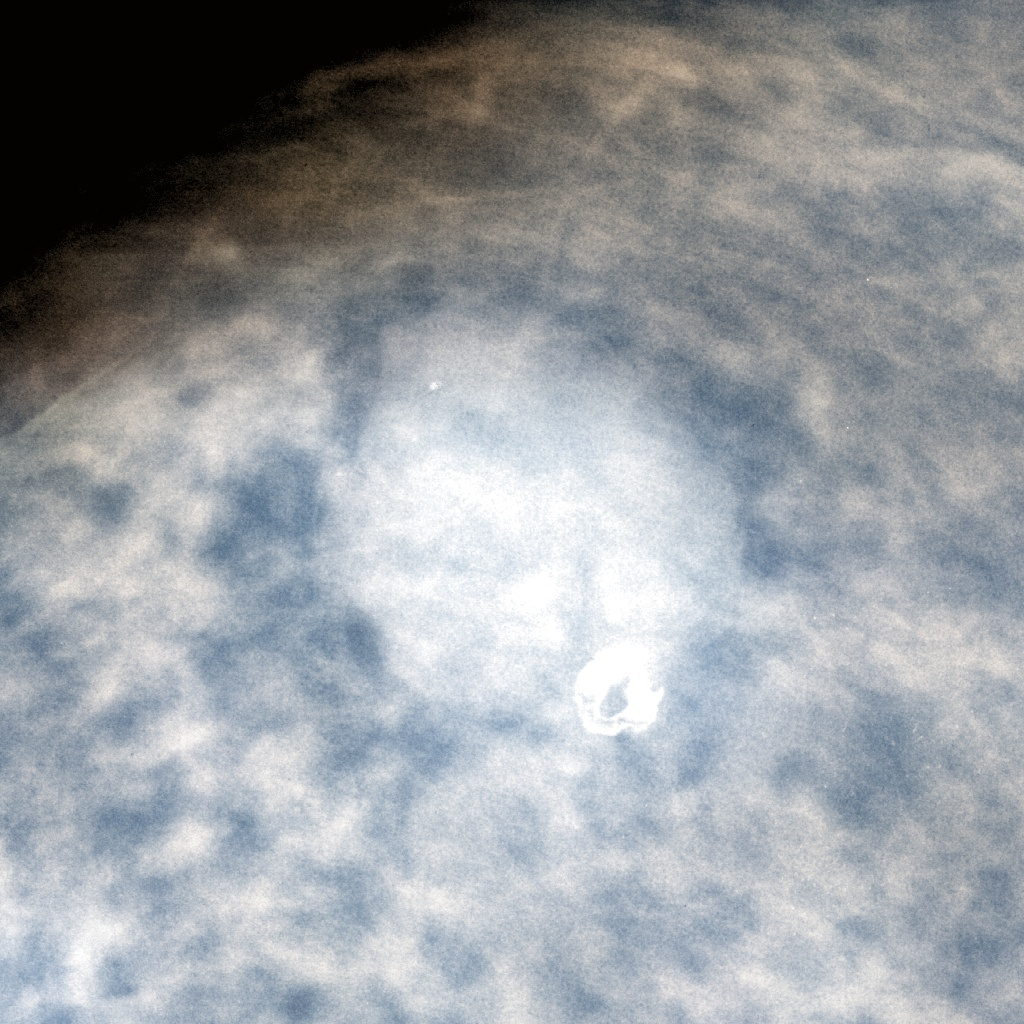tumor: (334, 320, 690, 704)
